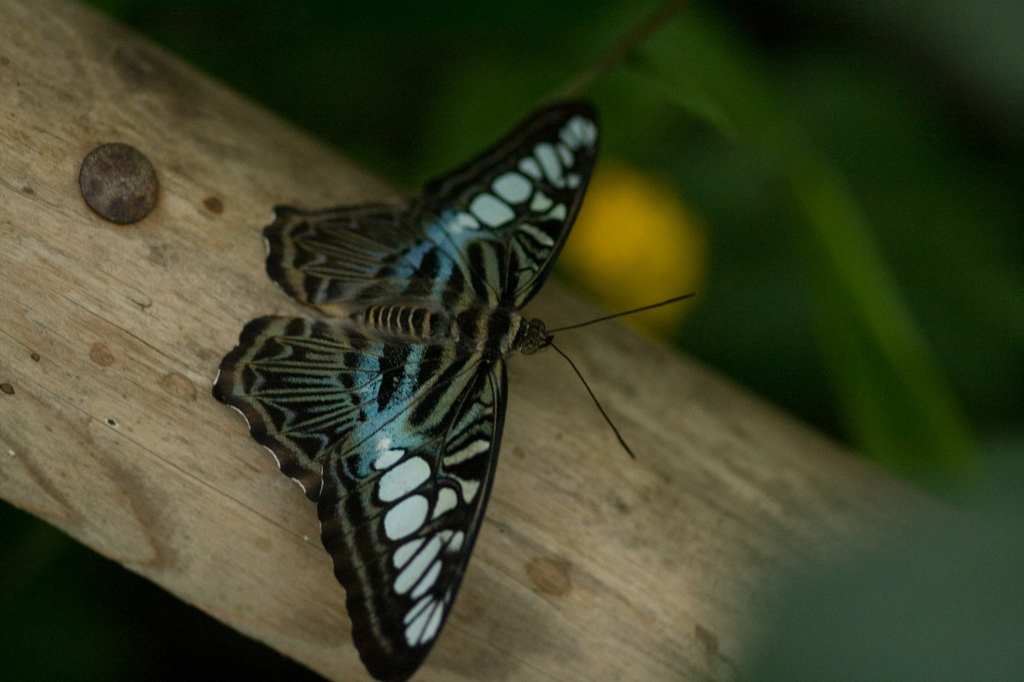Butterfly: (181, 63, 630, 679)
